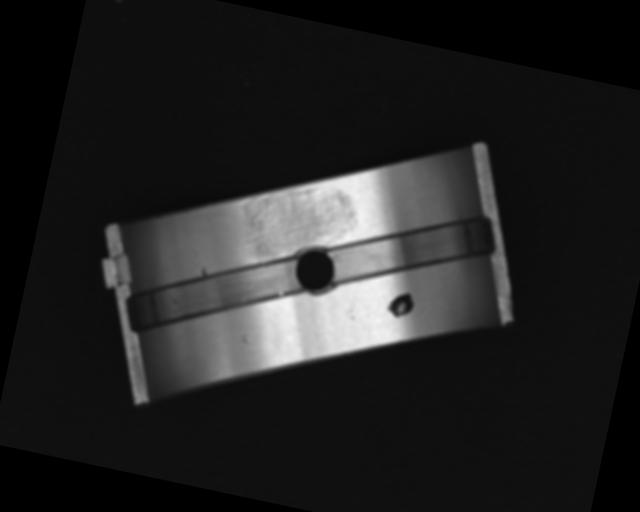blot: (385, 287, 417, 320)
bruise: (197, 265, 211, 281), (239, 332, 251, 345)
gap: (126, 222, 314, 367), (318, 175, 502, 318)
hole: (283, 240, 344, 302)
scratch: (232, 168, 366, 281)
